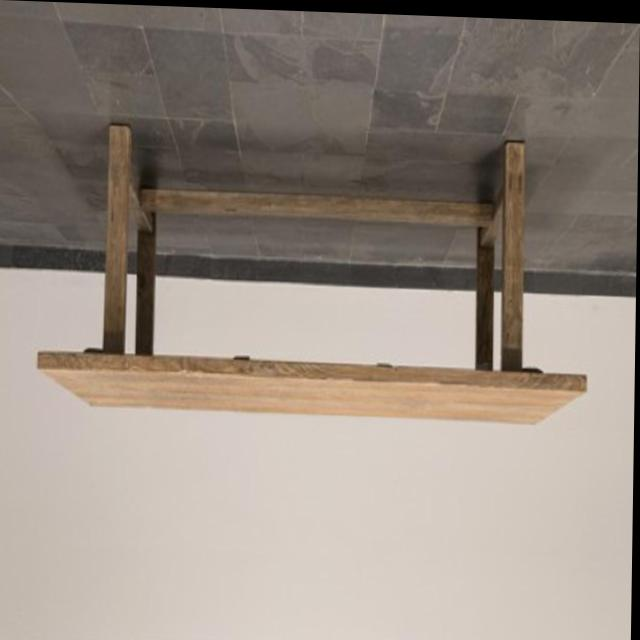Table: (31, 98, 601, 440)
